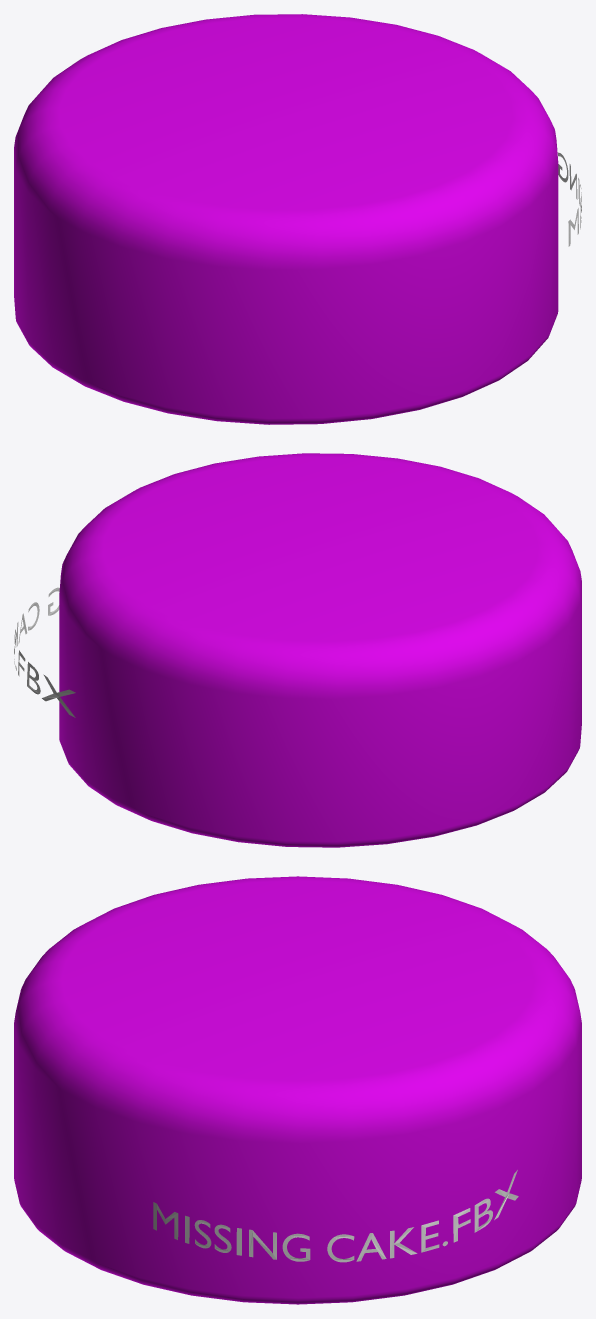
File: cake.fbx
3 views of the same model, one above another, from view 1: azimuth 30°, elevation 25°; view 2: azimuth 150°, elevation 25°; view 3: azimuth 270°, elevation 25° (orthographic). The views are drawn at different scales.
Parts seen in each view (by area): view 1: Cylinder, Text; view 2: Cylinder, Text; view 3: Cylinder, Text.
Boxes of the visible parts, bbox=[...] form: Cylinder: bbox=[14, 14, 558, 424]; Text: bbox=[558, 152, 581, 246]; Cylinder: bbox=[59, 453, 581, 847]; Text: bbox=[14, 587, 75, 717]; Cylinder: bbox=[14, 876, 581, 1304]; Text: bbox=[153, 1170, 518, 1262].
Bounding box in the file's own units: 218 × 80.69 × 200.
